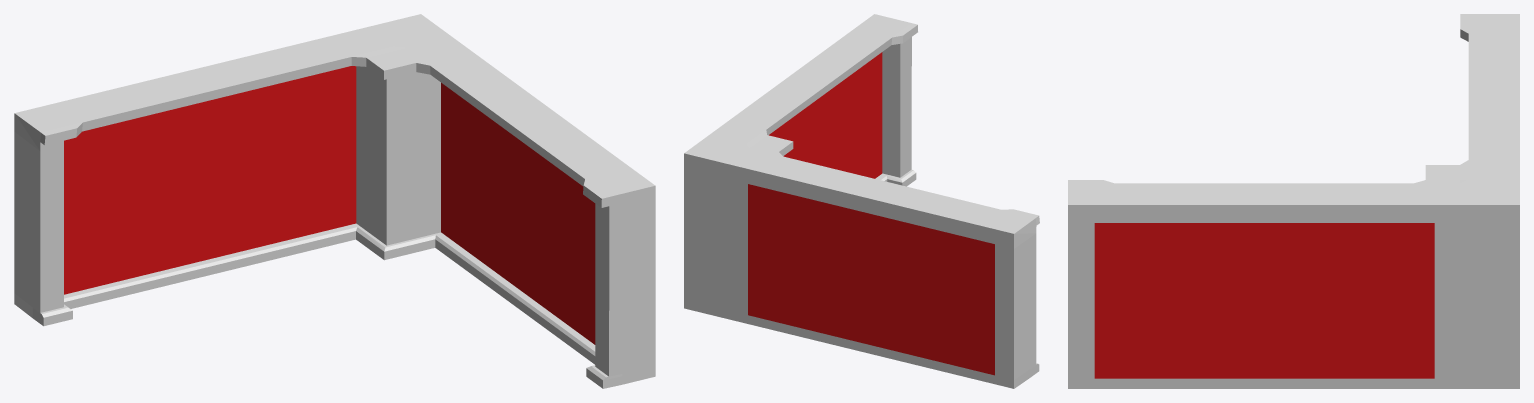
The model's file is Wall corner in.fbx.
3 views of the same model, side by side, from view 1: azimuth 30°, elevation 25°; view 2: azimuth 150°, elevation 25°; view 3: azimuth 270°, elevation 25° (orthographic). The views are drawn at different scales.
Visible parts, largest first — view 1: Corner in flat top; view 2: Corner in flat top; view 3: Corner in flat top.
Part boxes in pixels (x1=…): Corner in flat top: x1=14, y1=14, x2=655, y2=388; Corner in flat top: x1=684, y1=14, x2=1039, y2=388; Corner in flat top: x1=1068, y1=14, x2=1519, y2=388.
Size of the model in its own units: 637 by 286 by 636.
